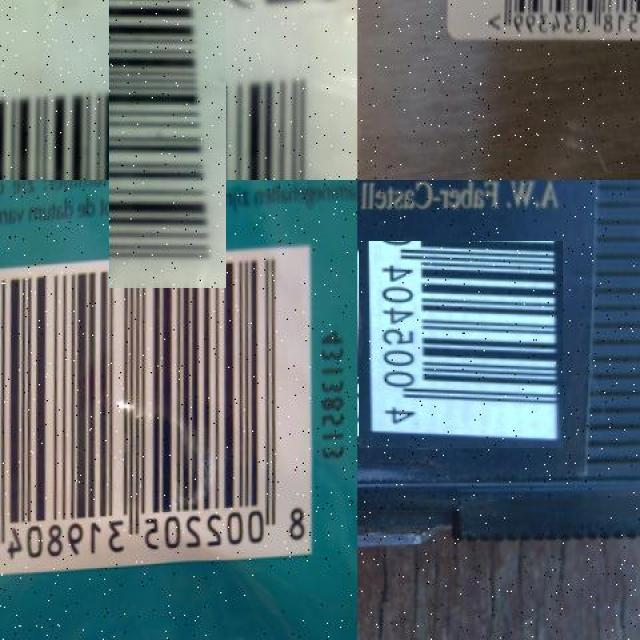Barcode: (0, 245, 320, 578), (55, 8, 280, 235), (358, 242, 564, 448)
